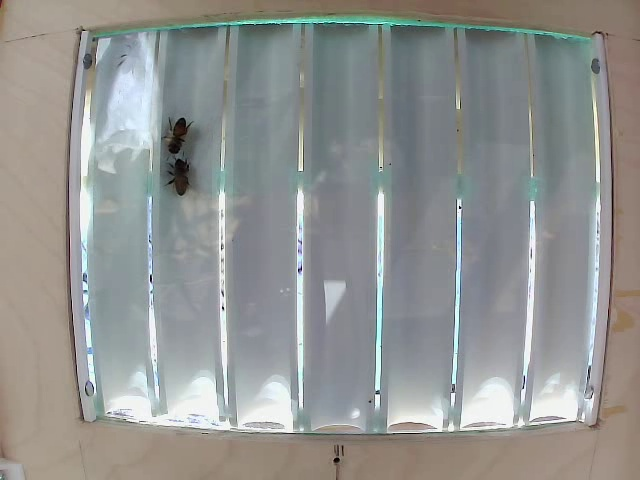bee: (175, 163, 201, 209), (174, 119, 193, 154)
